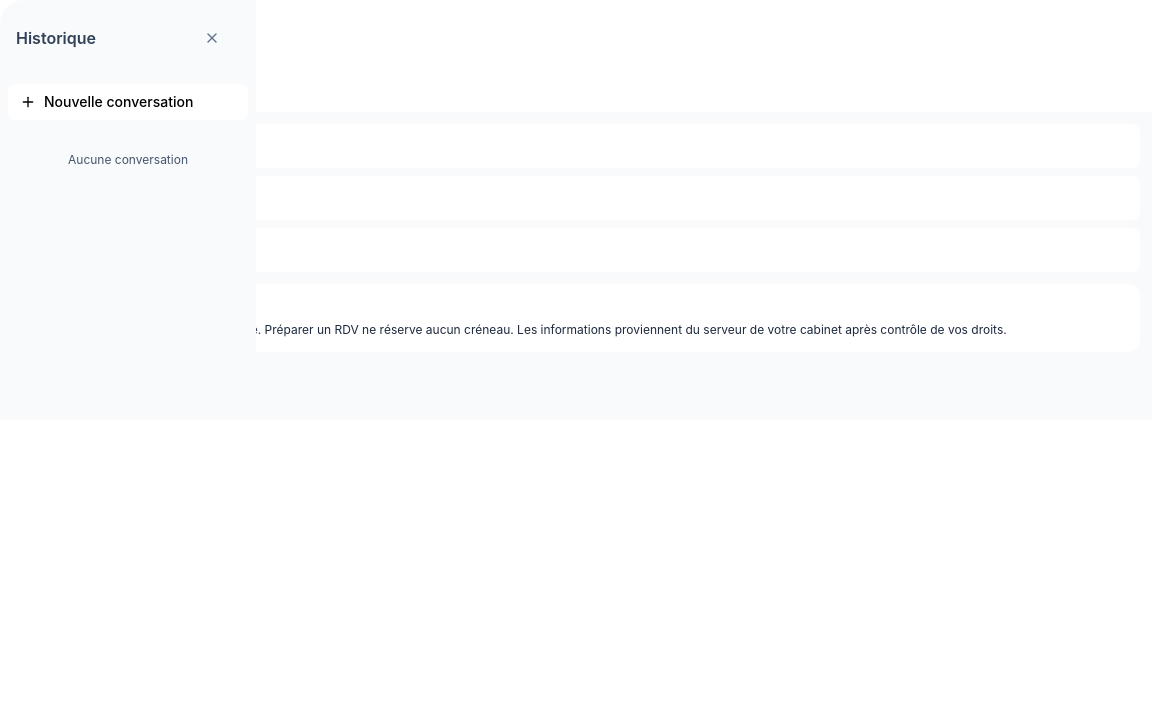
Test: CrownBot G9 reachable interaction truth › read-only history hides legacy executable pending actions and returns to business CTA
Click the button named "Ouvrir l'historique Crown Bot" at (30, 38), box [8,16,52,60]
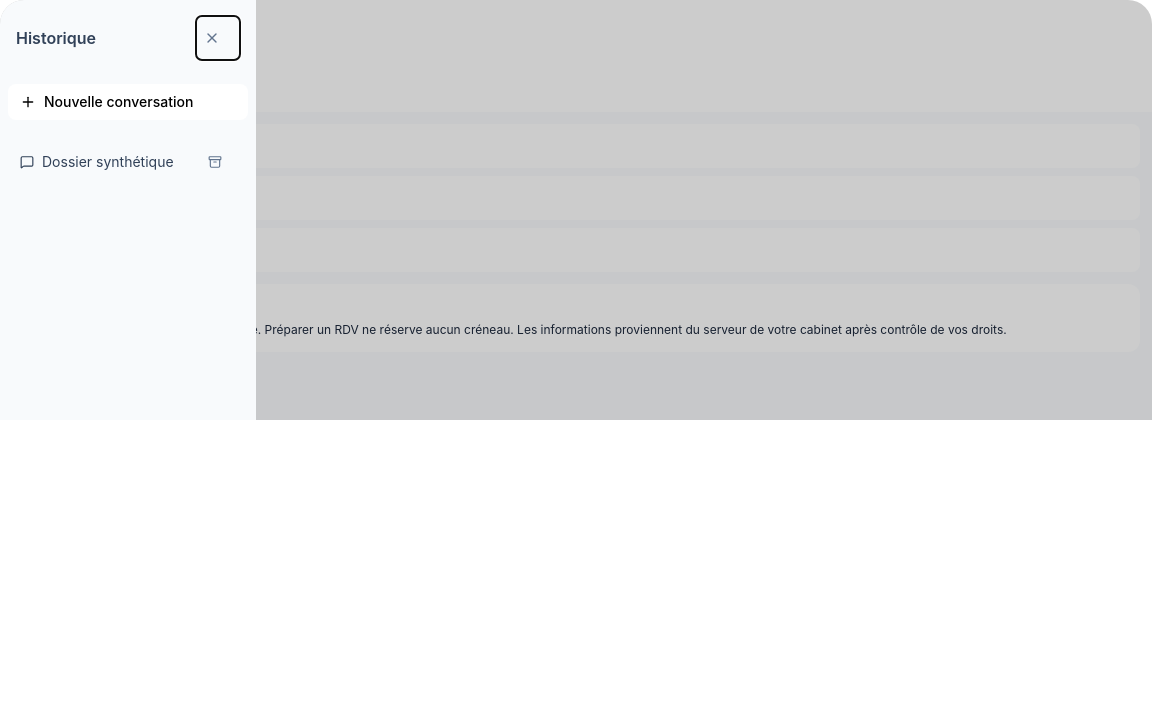
Click the button with aria-label "Ouvrir la conversation Dossier synthétique" at (104, 162), box [12,140,196,184]
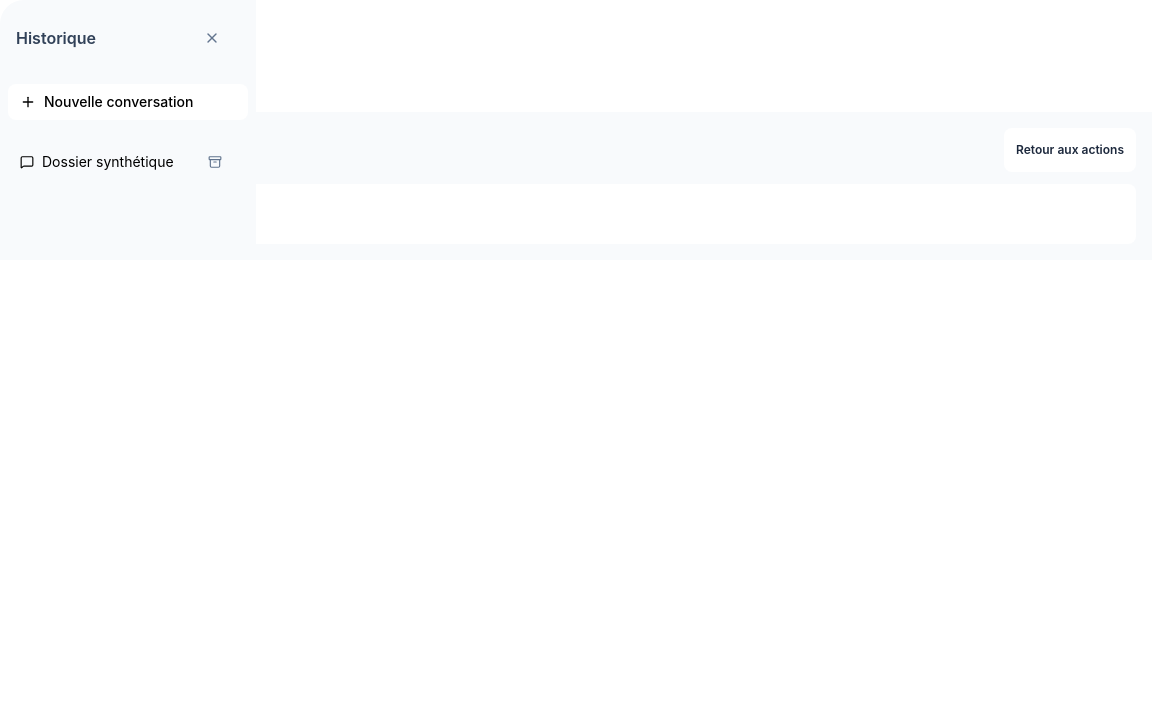
Click the button "Retour aux actions" at (1070, 150), box [1004,128,1136,172]
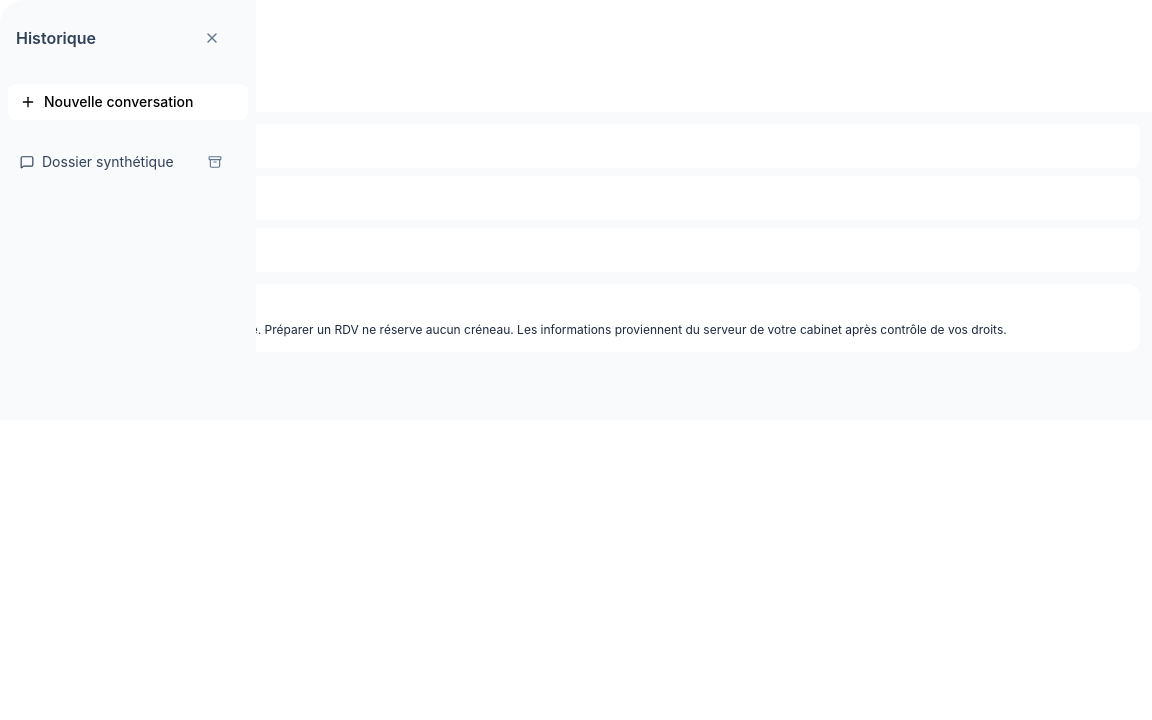
expect the text "Proposition historique uniquement" is not shown: met
expect the button "Mon programme" is shown: met, box [12,124,1140,168]
